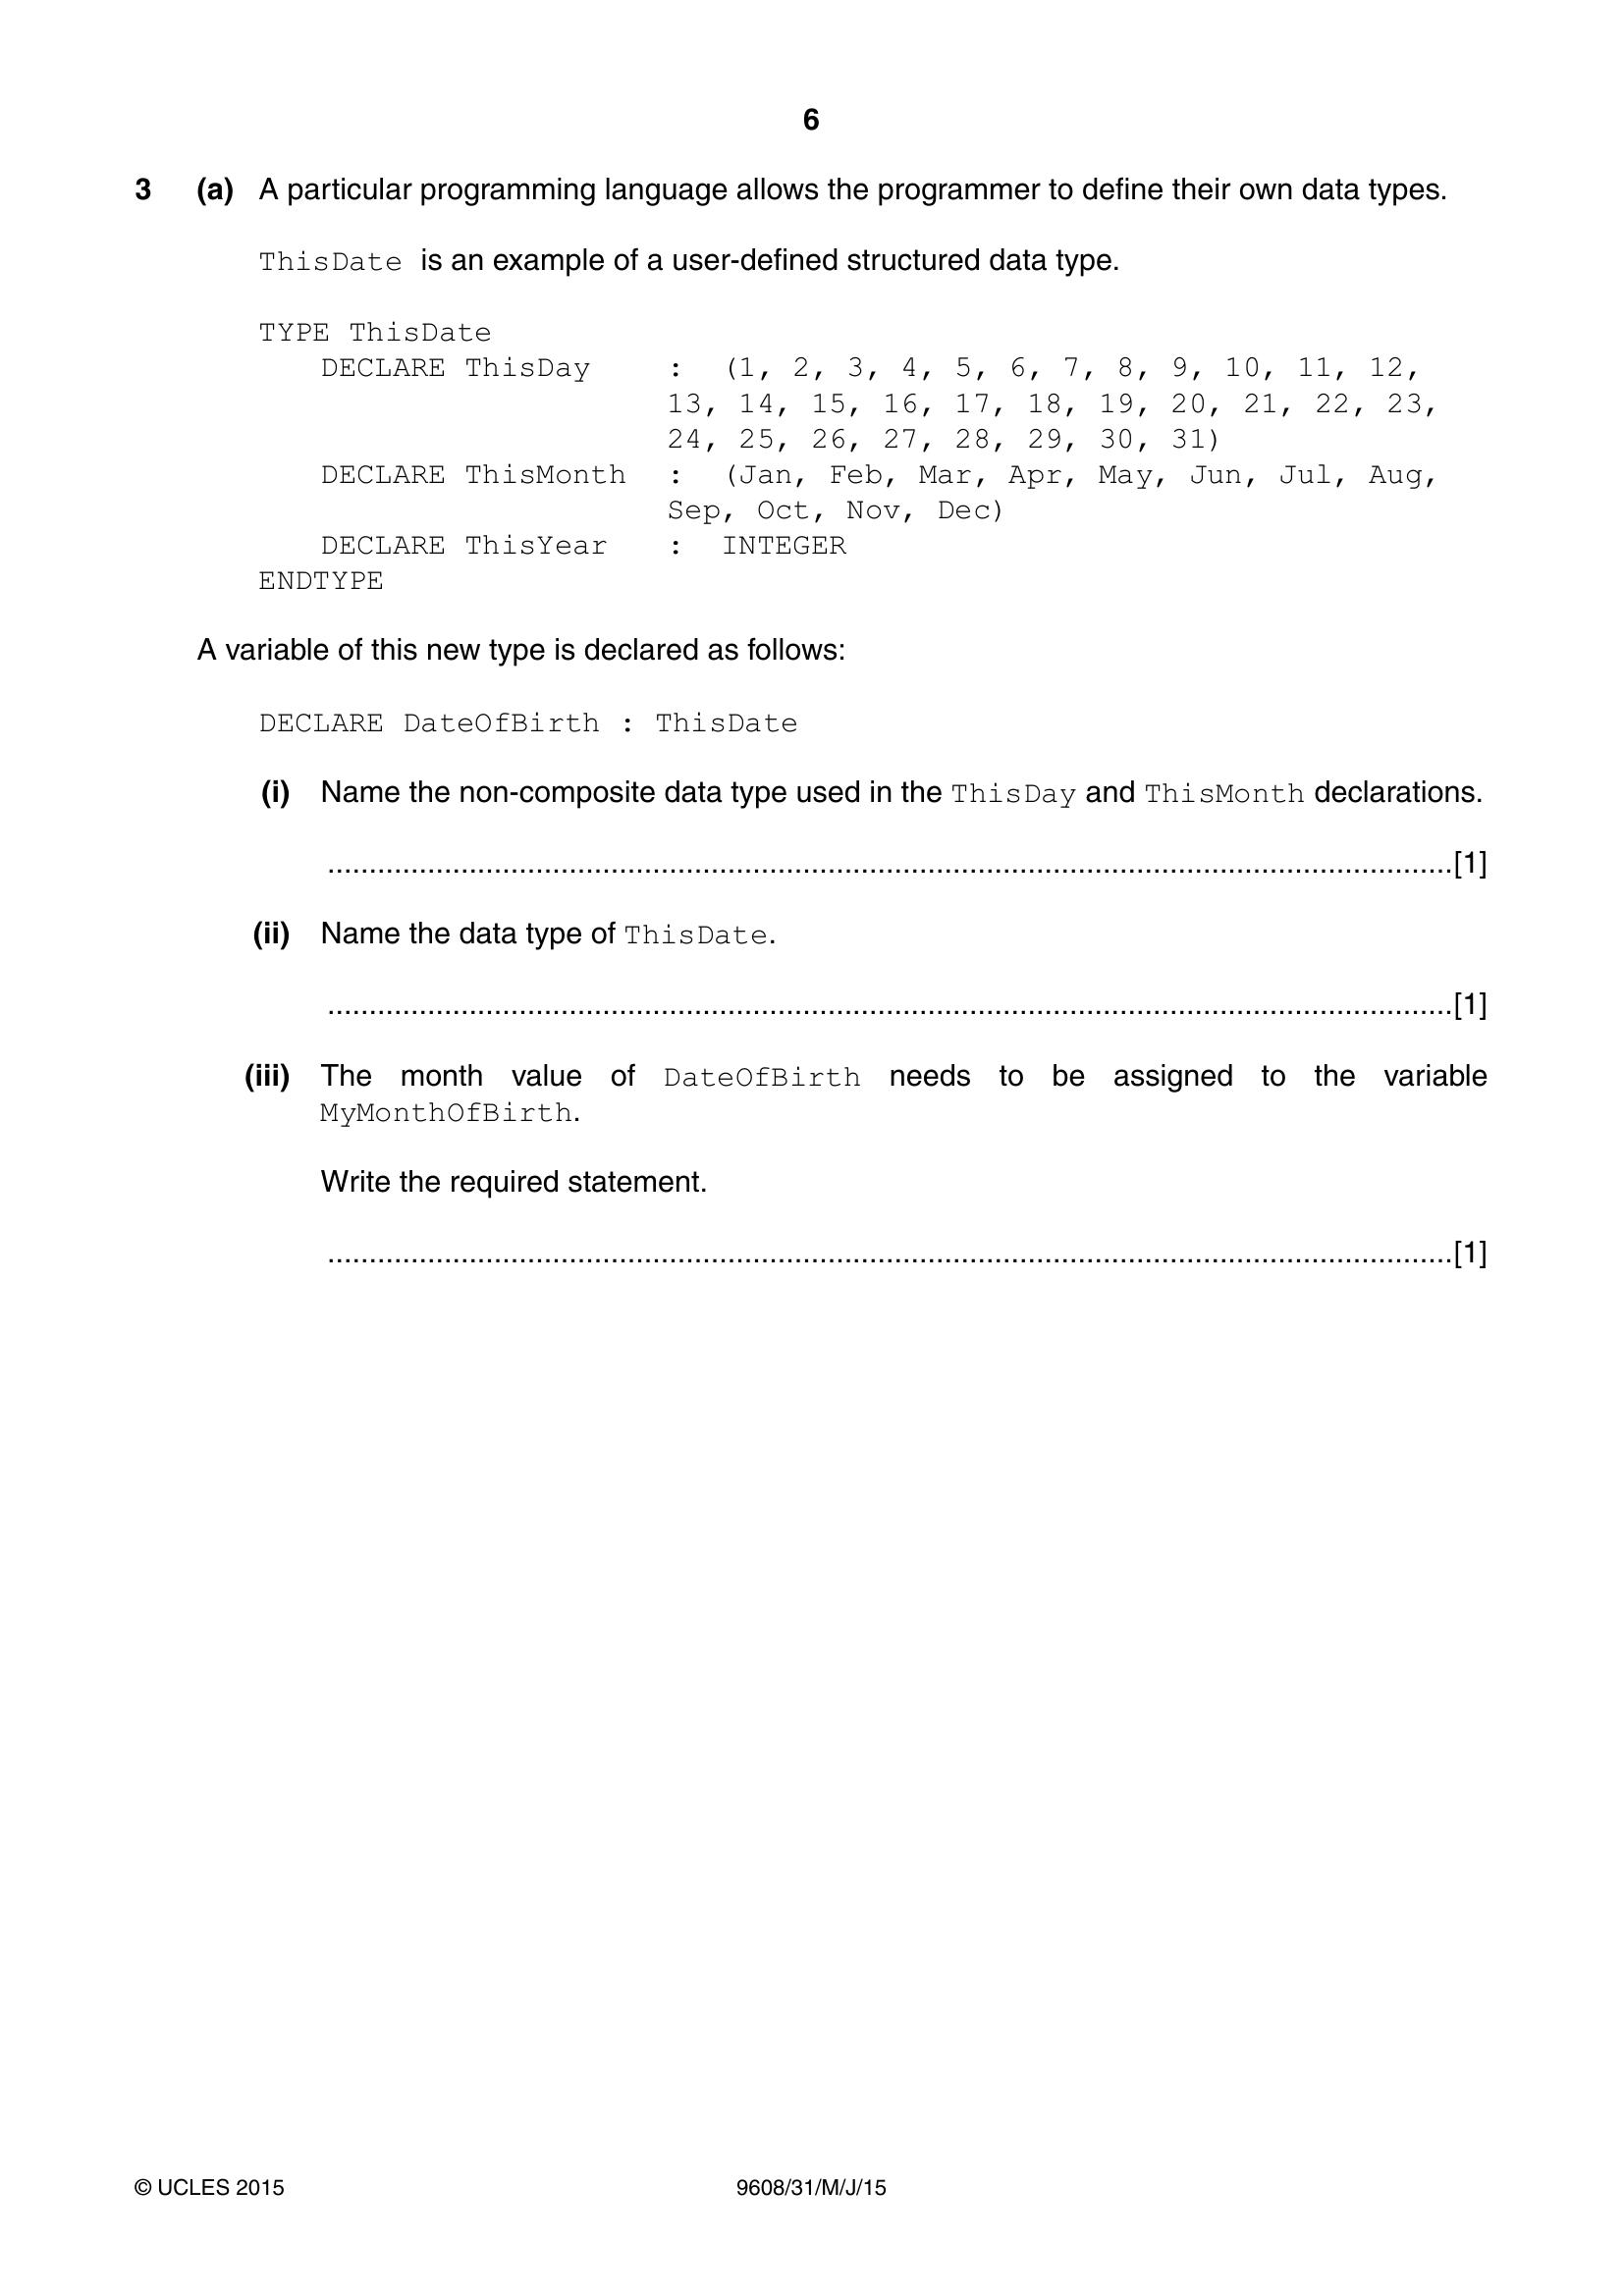question: (2, 148, 1622, 1339)
